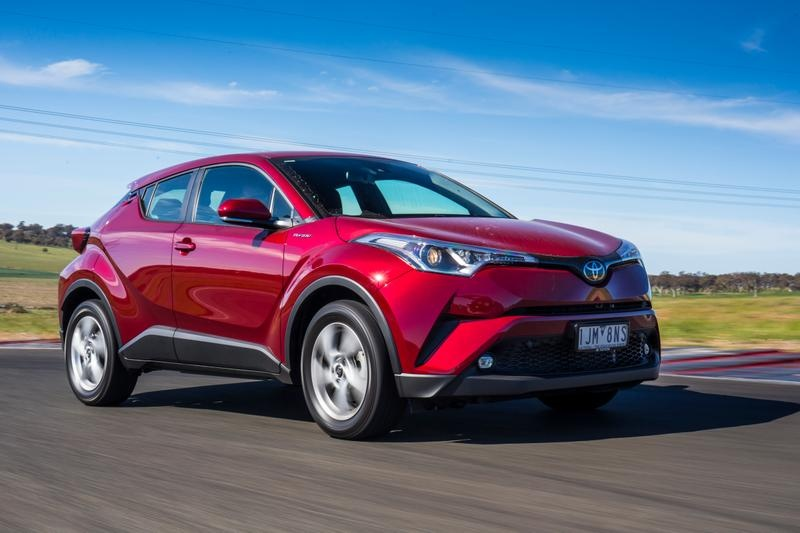car: (57, 150, 661, 437)
